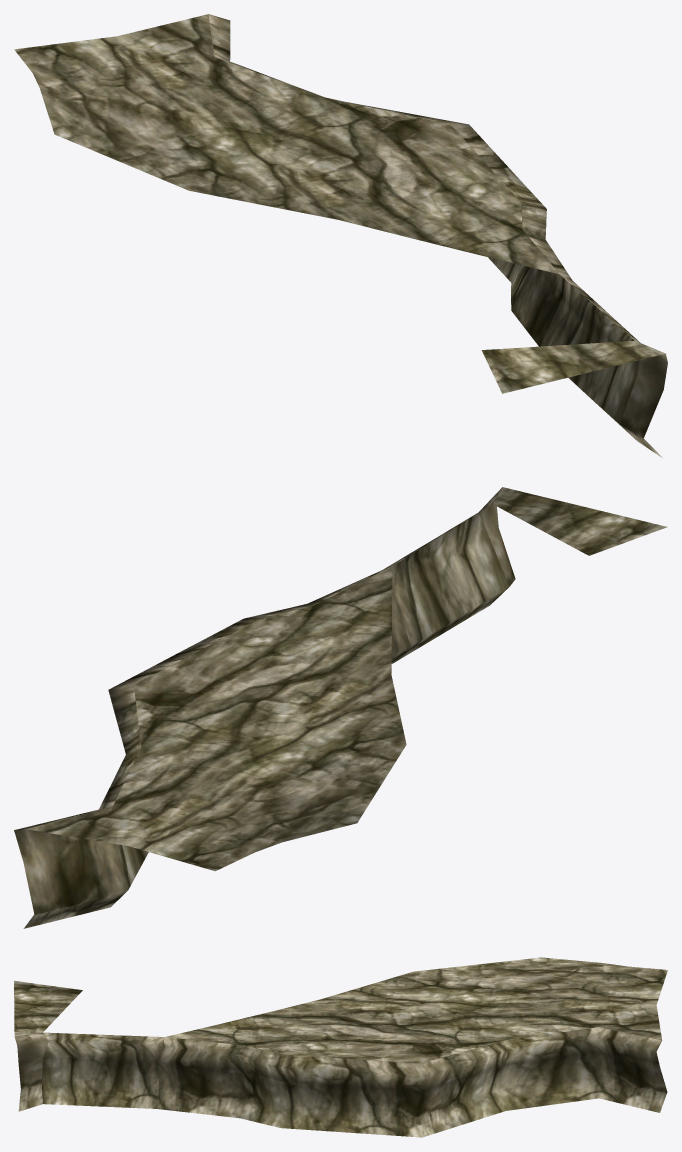
Rendered from CB_NEWPLAYSURFACE_CB_PLAYSURFACE79.fbx.
3 views of the same model, one above another, from view 1: azimuth 30°, elevation 25°; view 2: azimuth 150°, elevation 25°; view 3: azimuth 270°, elevation 25° (orthographic). The views are drawn at different scales.
Visible parts, largest first — view 1: CB_NEWPLAYSURFACE_CB_PLAYSURFACE79; view 2: CB_NEWPLAYSURFACE_CB_PLAYSURFACE79; view 3: CB_NEWPLAYSURFACE_CB_PLAYSURFACE79.
Boxes of the visible parts, left/top/right/bottom form: CB_NEWPLAYSURFACE_CB_PLAYSURFACE79: left=14, top=14, right=667, bottom=457; CB_NEWPLAYSURFACE_CB_PLAYSURFACE79: left=14, top=487, right=667, bottom=928; CB_NEWPLAYSURFACE_CB_PLAYSURFACE79: left=14, top=957, right=667, bottom=1137.
Bounding box in the file's own units: 99381 × 32594 × 243896.
Materials: 2 (2 with a texture image).
